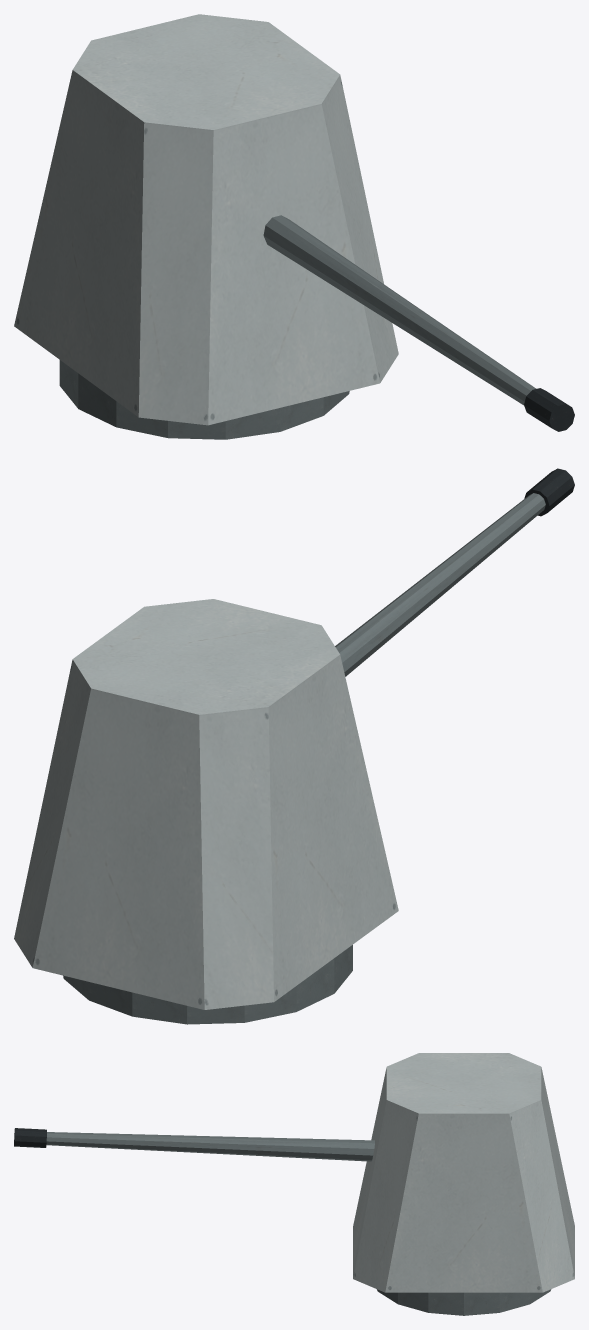
Rendered from mount_spruance_mk45.glb.
The picture shows the model from 3 angles, top to bottom: view 1: azimuth 30°, elevation 25°; view 2: azimuth 150°, elevation 25°; view 3: azimuth 270°, elevation 25°; orthographic projection. The views are drawn at different scales.
Visible parts, largest first — view 1: MESH_SPRUANCE_TEMPLATE_mk45.002; view 2: MESH_SPRUANCE_TEMPLATE_mk45.002; view 3: MESH_SPRUANCE_TEMPLATE_mk45.002.
Part boxes in pixels (bbox=[...]): MESH_SPRUANCE_TEMPLATE_mk45.002: bbox=[14, 14, 574, 439]; MESH_SPRUANCE_TEMPLATE_mk45.002: bbox=[14, 468, 574, 1024]; MESH_SPRUANCE_TEMPLATE_mk45.002: bbox=[14, 1053, 574, 1315].
Size of the model in its own units: 1.89 by 2.13 by 5.6.
Materials: 1 (1 with a texture image).
